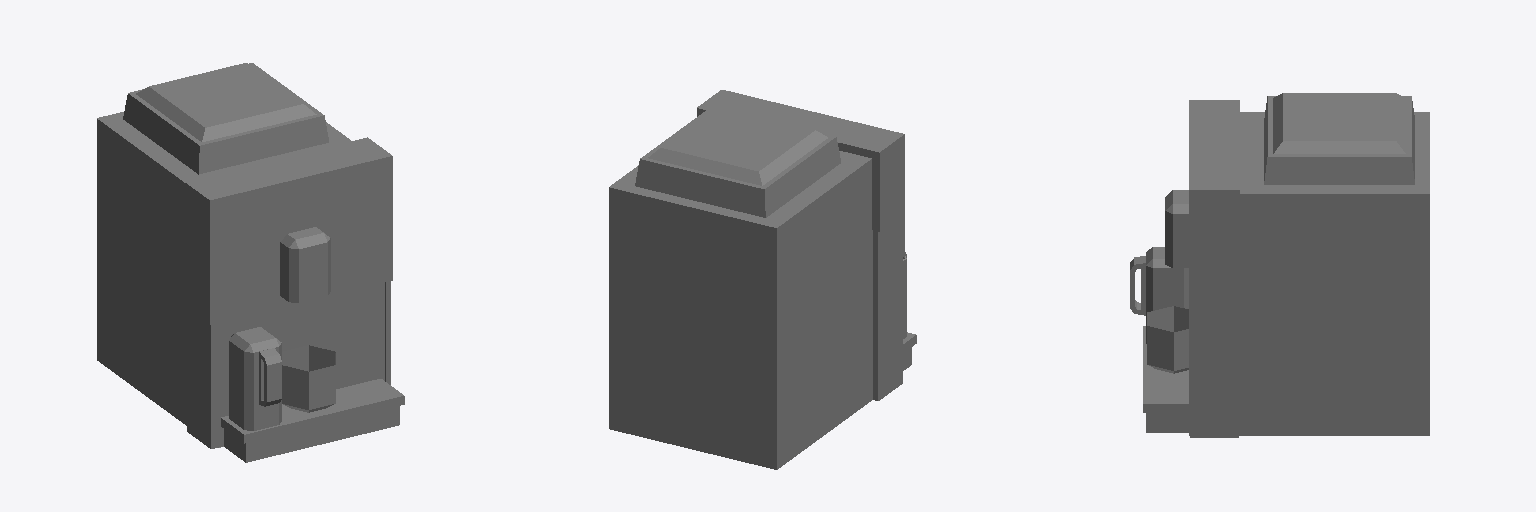
The model's file is MaquinaCa.obj.
The picture shows the model from 3 angles: view 1: azimuth 30°, elevation 25°; view 2: azimuth 150°, elevation 25°; view 3: azimuth 270°, elevation 25°; orthographic projection.
Visible parts, largest first — view 1: coffee_machine_001; view 2: coffee_machine_001; view 3: coffee_machine_001.
Boxes of the visible parts, <box> form: coffee_machine_001: <box>97,63,404,462</box>; coffee_machine_001: <box>609,90,916,469</box>; coffee_machine_001: <box>1130,93,1429,437</box>.
Bounding box in the file's own units: 5.06 × 7.34 × 7.2.